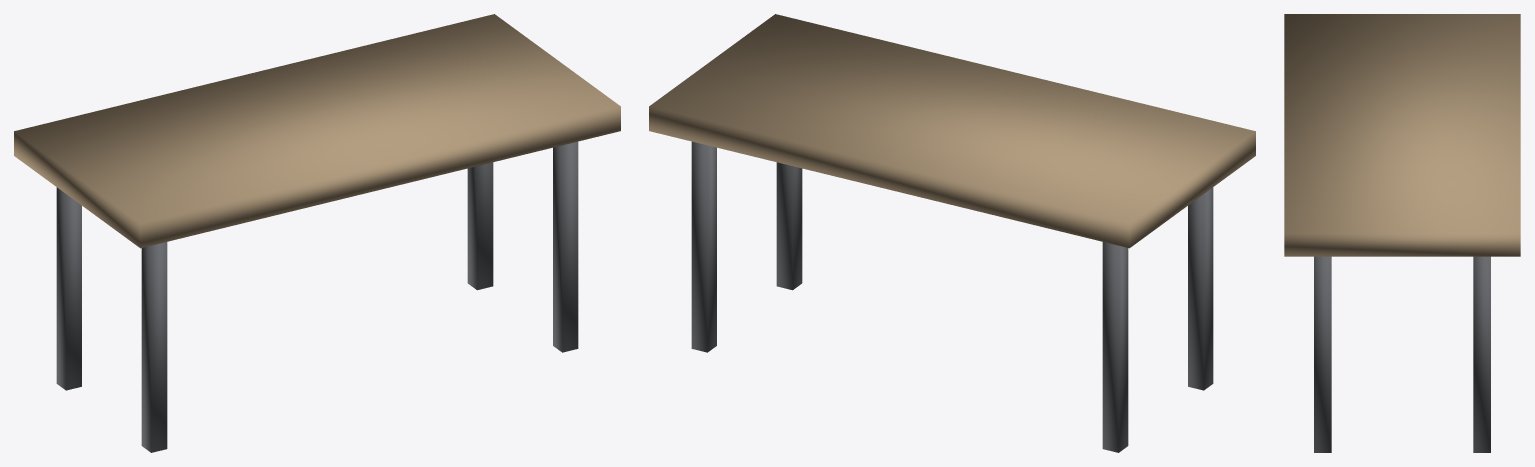
File: library_reading_table__compact.glb
The picture shows the model from 3 angles, left to right: view 1: azimuth 30°, elevation 25°; view 2: azimuth 150°, elevation 25°; view 3: azimuth 270°, elevation 25°; orthographic projection. The views are drawn at different scales.
Parts seen in each view (by area): view 1: world; view 2: world; view 3: world.
Part boxes in pixels (bbox=[...]): world: bbox=[14, 14, 620, 452]; world: bbox=[649, 14, 1255, 452]; world: bbox=[1284, 14, 1520, 452].
Bounding box in the file's own units: 1.51 × 0.744 × 0.688.
